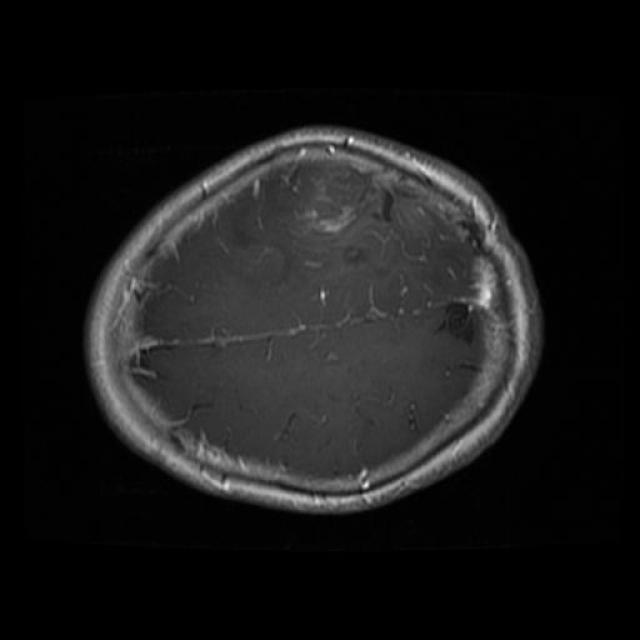Glioma: (283, 151, 449, 266)
